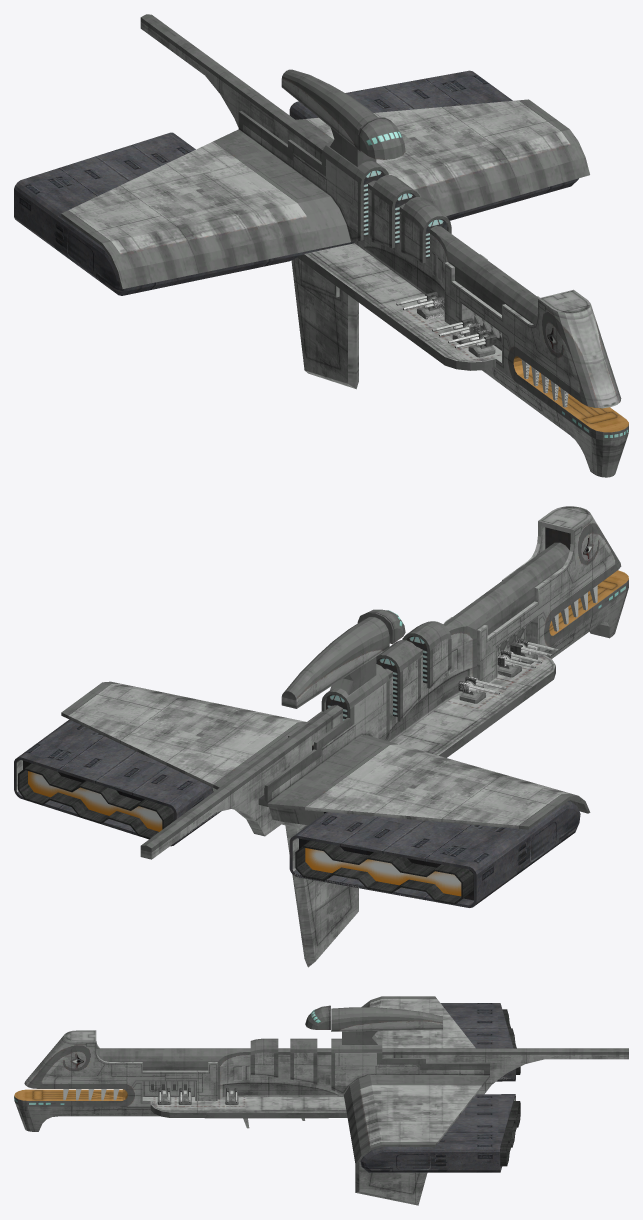
Rendered from Chasemaster.obj.
3 renders of one model, top to bottom at view 1: azimuth 30°, elevation 25°; view 2: azimuth 150°, elevation 25°; view 3: azimuth 270°, elevation 25°, orthographic. The views are drawn at different scales.
Visible parts, largest first — view 1: Hull, Lights, Turrret, Turret3; view 2: Hull, Lights, Turret3, Turret2; view 3: Hull.
Boxes of the visible parts, x1,y1,x2,y2 form: Hull: [14, 14, 628, 477]; Lights: [363, 131, 628, 437]; Turrret: [448, 330, 496, 357]; Turret3: [396, 292, 444, 319]; Hull: [14, 506, 628, 967]; Lights: [28, 586, 625, 896]; Turret3: [458, 676, 506, 703]; Turret2: [497, 649, 542, 677]; Hull: [14, 996, 628, 1205].
Size of the model in its own units: 210 by 131 by 368.
